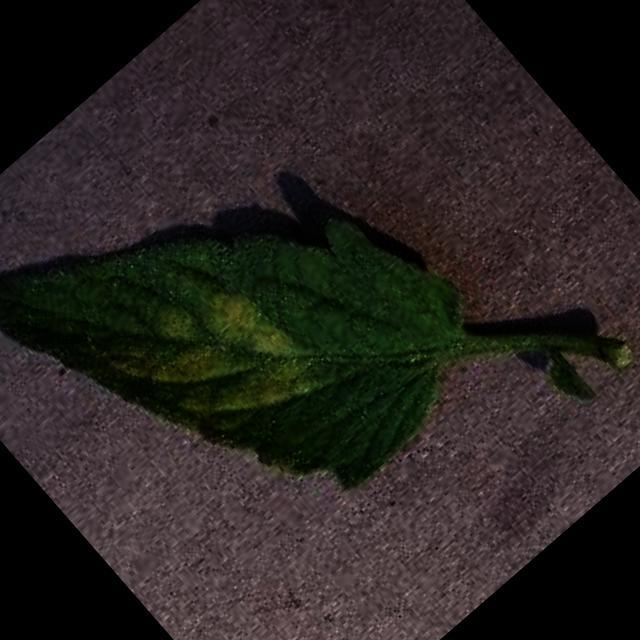Tomato mold leaf: (0, 42, 521, 603)
